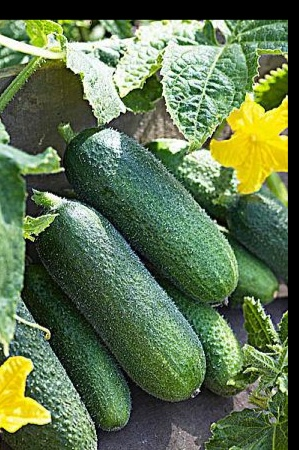cucumber: (35, 201, 196, 392), (74, 129, 235, 303)
cucumber_plant: (62, 25, 278, 126)
